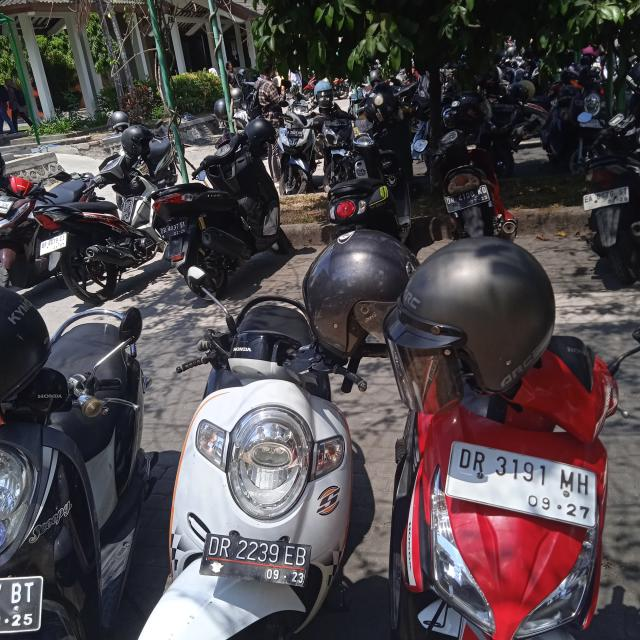plate: (447, 441, 598, 530), (200, 531, 311, 591), (444, 183, 491, 213)
